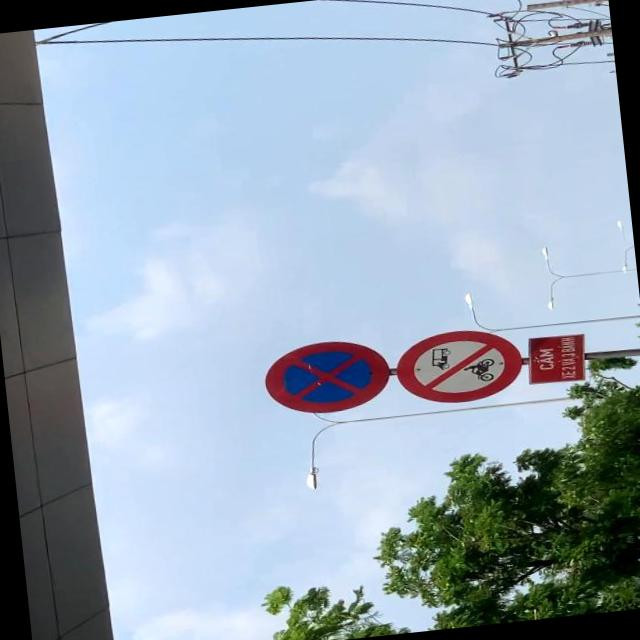P-104: (392, 323, 524, 408)
P-130: (259, 333, 392, 418)
